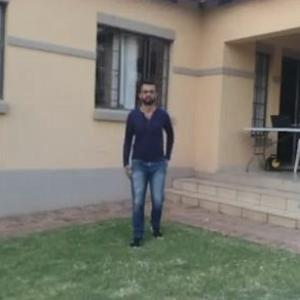follow: (125, 72, 179, 252)
